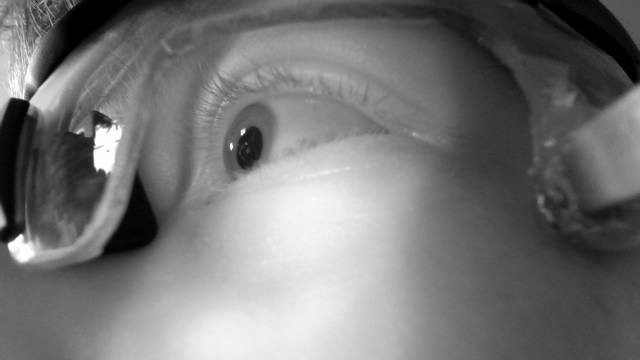pupil: (235, 126, 264, 171)
